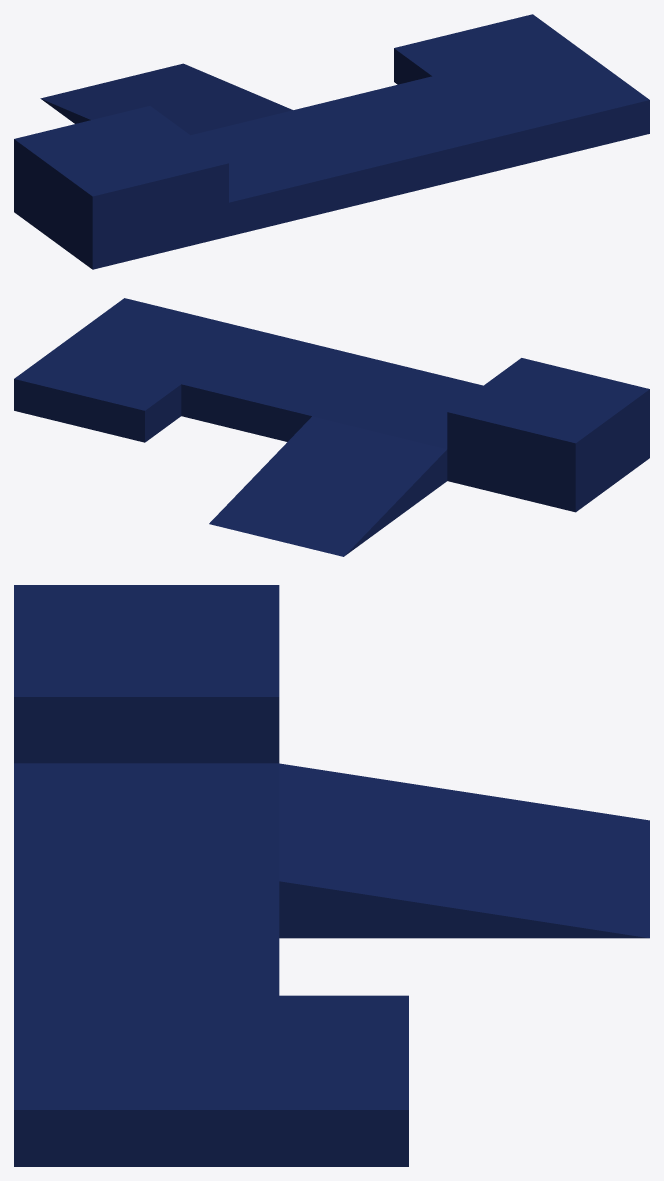
Rendered from ramp_002.gltf.
The picture shows the model from 3 angles, top to bottom: view 1: azimuth 30°, elevation 25°; view 2: azimuth 150°, elevation 25°; view 3: azimuth 270°, elevation 25°; orthographic projection. The views are drawn at different scales.
Parts seen in each view (by area): view 1: ramp.002; view 2: ramp.002; view 3: ramp.002.
Boxes of the visible parts, left/top/right/bottom form: ramp.002: left=14, top=14, right=649, bottom=269; ramp.002: left=14, top=298, right=649, bottom=556; ramp.002: left=14, top=585, right=649, bottom=1166.
Size of the model in its own units: 11.12 by 1.4 by 6.52.
